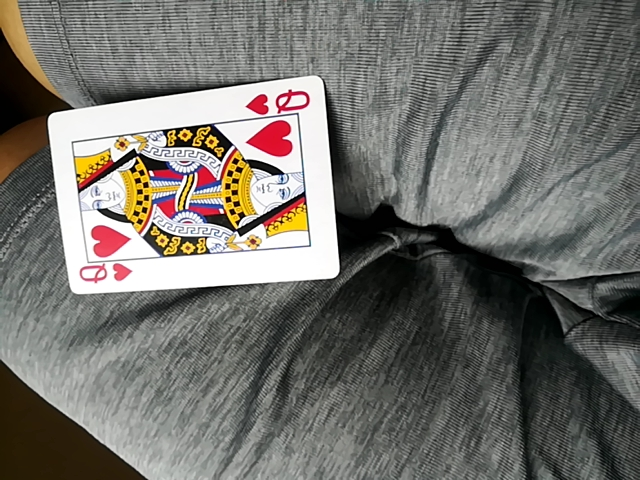hx q: (53, 77, 342, 296)
